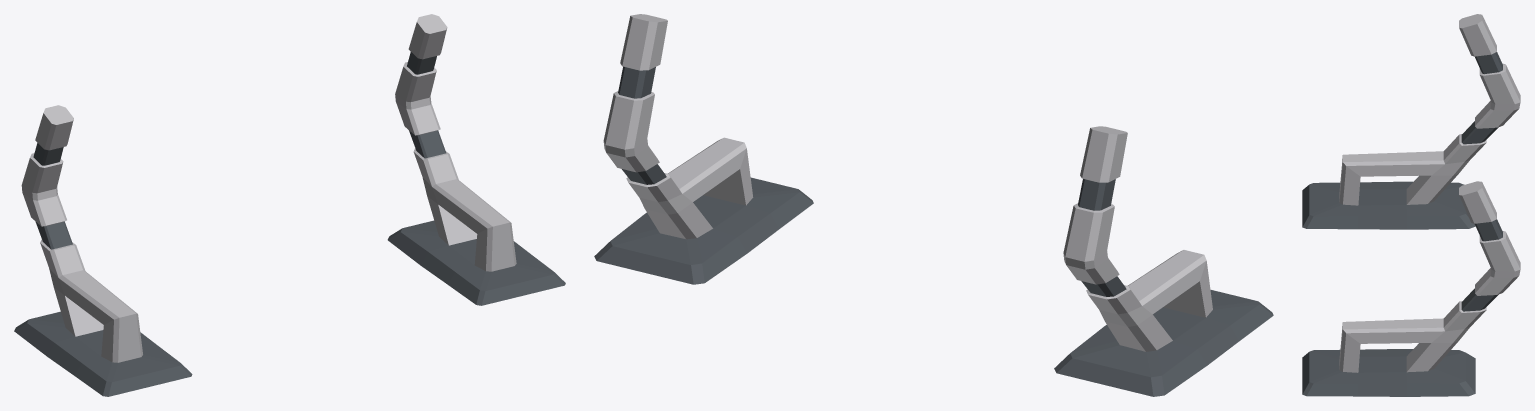
Rendered from Dropship_05_Rear_Landers.fbx.
The picture shows the model from 3 angles, left to right: view 1: azimuth 30°, elevation 25°; view 2: azimuth 150°, elevation 25°; view 3: azimuth 270°, elevation 25°; orthographic projection. The views are drawn at different scales.
Parts seen in each view (by area): view 1: Dropship_05_Rear_Landers; view 2: Dropship_05_Rear_Landers; view 3: Dropship_05_Rear_Landers.
Part boxes in pixels (bbox=[...]): Dropship_05_Rear_Landers: bbox=[14, 14, 565, 396]; Dropship_05_Rear_Landers: bbox=[594, 14, 1273, 396]; Dropship_05_Rear_Landers: bbox=[1302, 14, 1520, 396].
Size of the model in its own units: 462 by 198 by 205.
Materials: 1 (1 with a texture image).
